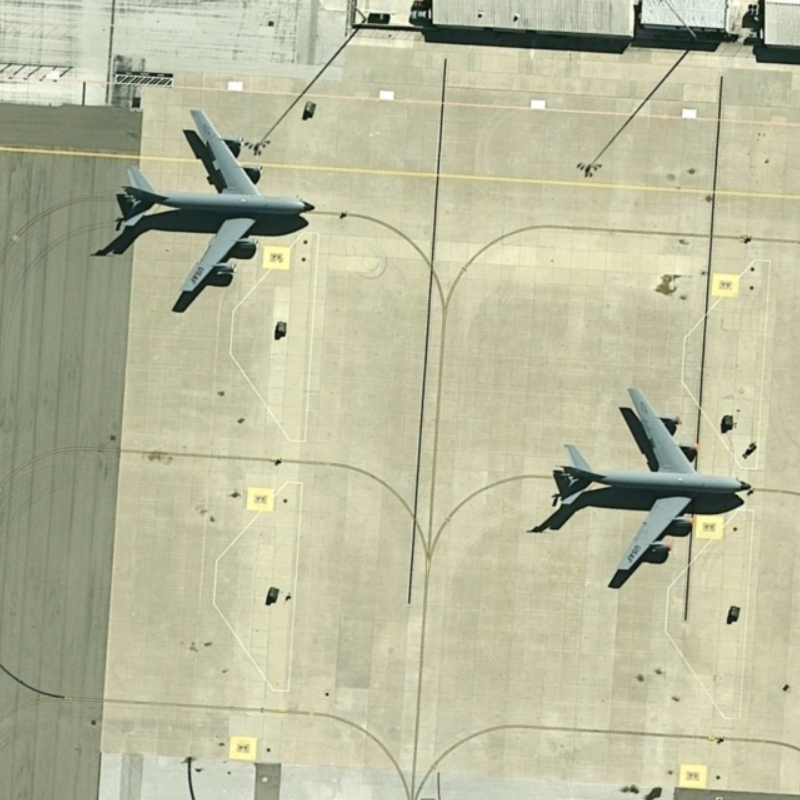A14: (112, 101, 318, 297), (554, 381, 757, 578)
